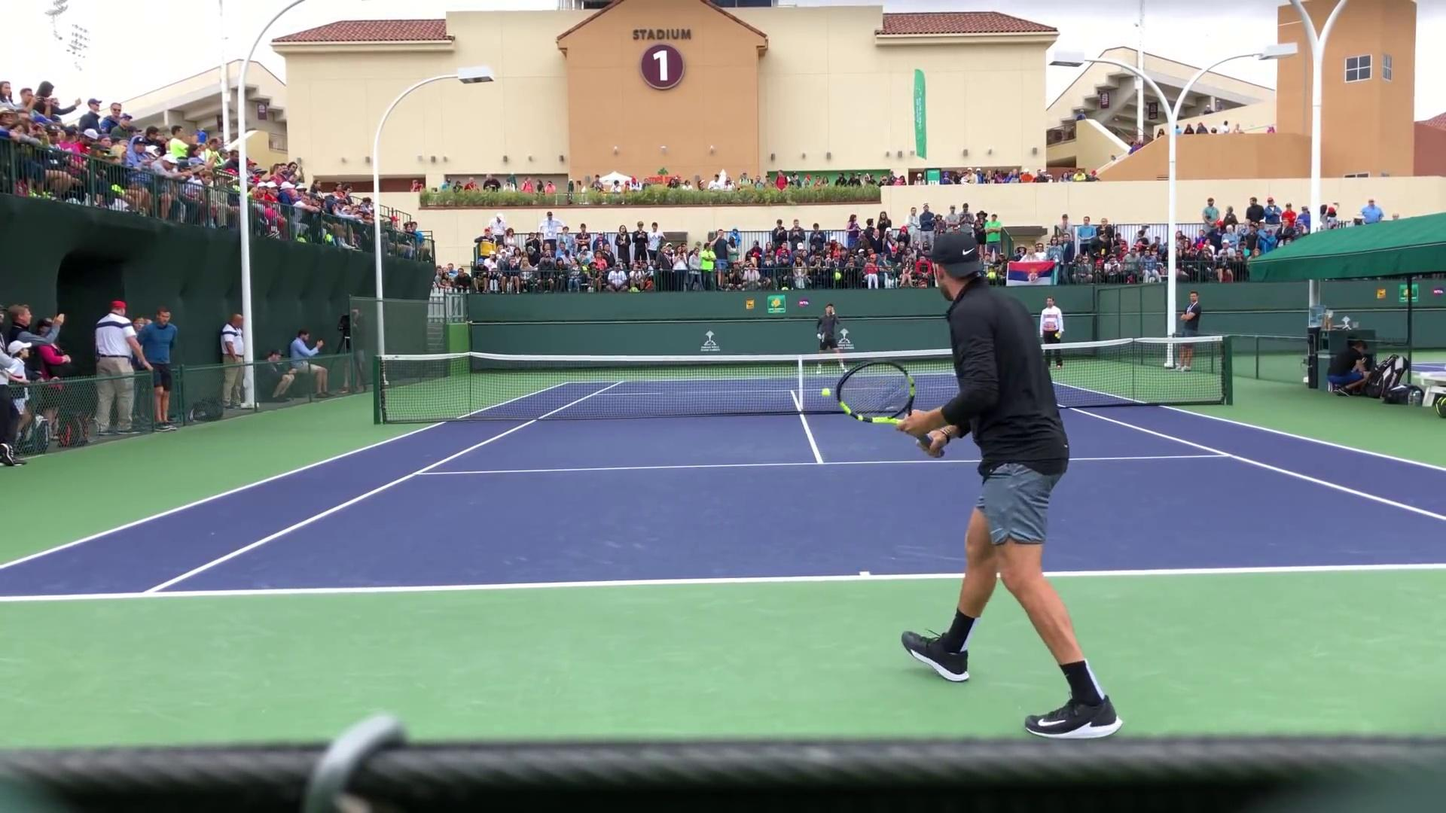ball: (819, 388, 833, 398), (844, 410, 847, 413)
